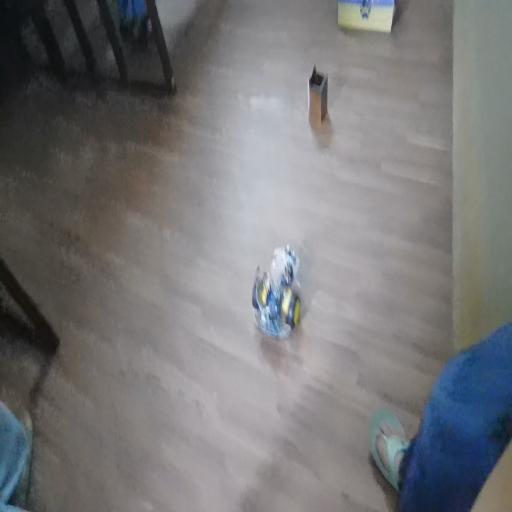car: (251, 259, 325, 339)
